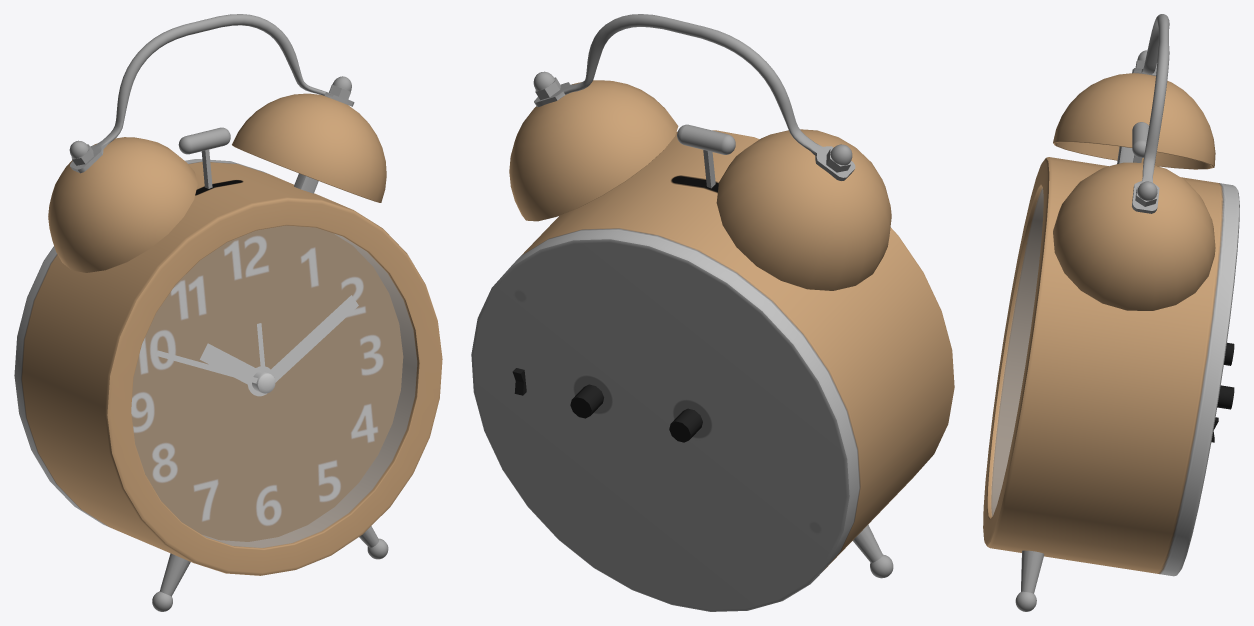
The model's file is retro_clock.glb.
3 views of the same model, side by side, from view 1: azimuth 30°, elevation 25°; view 2: azimuth 150°, elevation 25°; view 3: azimuth 270°, elevation 25° (orthographic). The views are drawn at different scales.
Visible parts, largest first — view 1: Object_2; view 2: Object_2; view 3: Object_2.
Boxes of the visible parts, <box> form: Object_2: <box>14,14,442,611</box>; Object_2: <box>471,14,954,611</box>; Object_2: <box>983,14,1239,611</box>.
Bounding box in the file's own units: 16.71 × 24.52 × 10.86.
1 material, 1 textured.
